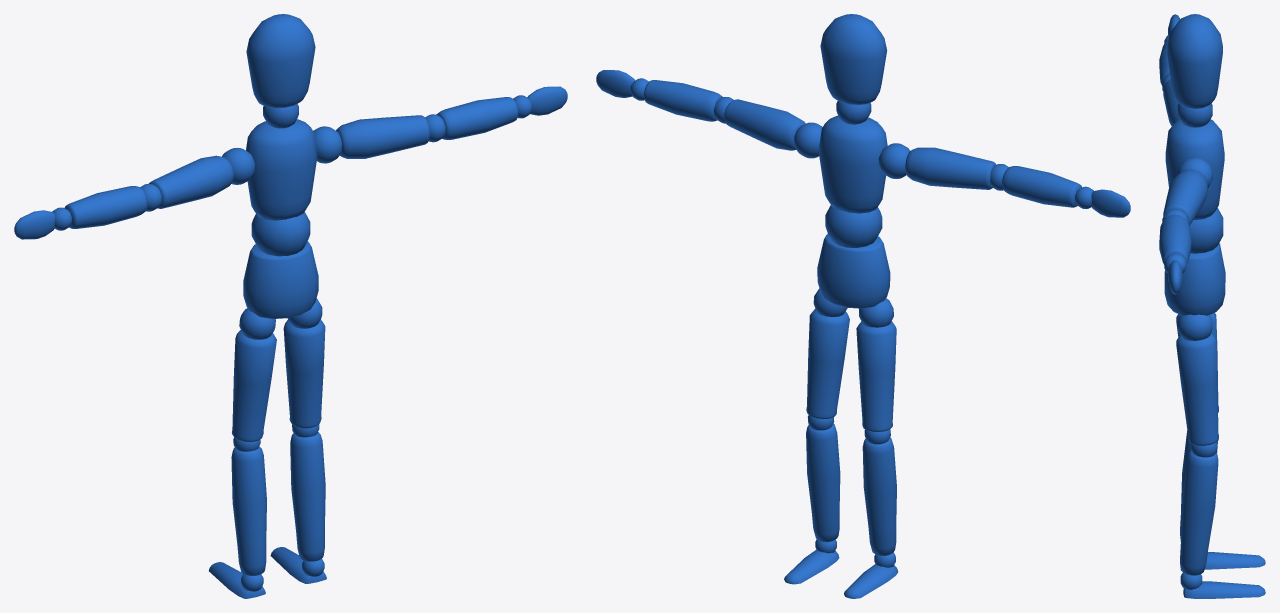
3 renders of one model, left to right at view 1: azimuth 30°, elevation 25°; view 2: azimuth 150°, elevation 25°; view 3: azimuth 270°, elevation 25°, orthographic. The views are drawn at different scales.
Parts seen in each view (by area): view 1: 上体, 头部, 骨盆, 右_小腿, 左_小腿, 右_大腿, 左_大腿, 左_上臂, 右_上臂, 右_下臂, 左_下臂, 关节 (+7 smaller); view 2: 上体, 头部, 骨盆, 右_大腿, 左_大腿, 右_小腿, 左_小腿, 右_上臂, 左_上臂, 右_下臂, 左_下臂, 关节 (+7 smaller); view 3: 头部, 左_大腿, 左_小腿, 上体, 骨盆, 左_上臂, 左_下臂, 左_脚, 关节, 右_脚, 左_关节_2, 颈部 (+9 smaller).
Part boxes in pixels (x1,y1,x2,y2): 上体: [246, 119, 317, 220]; 头部: [246, 14, 315, 108]; 骨盆: [243, 241, 318, 318]; 右_小腿: [231, 446, 266, 575]; 左_小腿: [290, 432, 325, 561]; 右_大腿: [232, 330, 276, 441]; 左_大腿: [283, 319, 325, 428]; 左_上臂: [336, 115, 429, 158]; 右_上臂: [149, 155, 233, 208]; 右_下臂: [64, 186, 147, 228]; 左_下臂: [436, 97, 518, 139]; 关节: [251, 212, 310, 256]; 上体: [818, 115, 887, 213]; 头部: [820, 14, 887, 105]; 骨盆: [817, 233, 890, 308]; 右_大腿: [856, 321, 896, 431]; 左_大腿: [806, 308, 849, 419]; 右_小腿: [862, 437, 896, 555]; 左_小腿: [806, 423, 840, 542]; 右_上臂: [905, 147, 996, 189]; 左_上臂: [724, 99, 805, 150]; 右_下臂: [1002, 166, 1081, 207]; 左_下臂: [644, 80, 722, 121]; 关节: [825, 205, 882, 247]; 头部: [1167, 14, 1222, 109]; 左_大腿: [1176, 333, 1218, 445]; 左_小腿: [1180, 450, 1218, 575]; 上体: [1165, 119, 1224, 219]; 骨盆: [1164, 243, 1225, 315]; 左_上臂: [1163, 169, 1207, 225]; 左_下臂: [1159, 214, 1191, 264]; 左_脚: [1183, 581, 1265, 598]; 关节: [1190, 207, 1223, 253]; 右_脚: [1204, 552, 1265, 569]; 左_关节_2: [1177, 314, 1212, 340]; 颈部: [1177, 103, 1212, 127].
Bounding box in the file's own units: 183 × 180 × 30.94.
